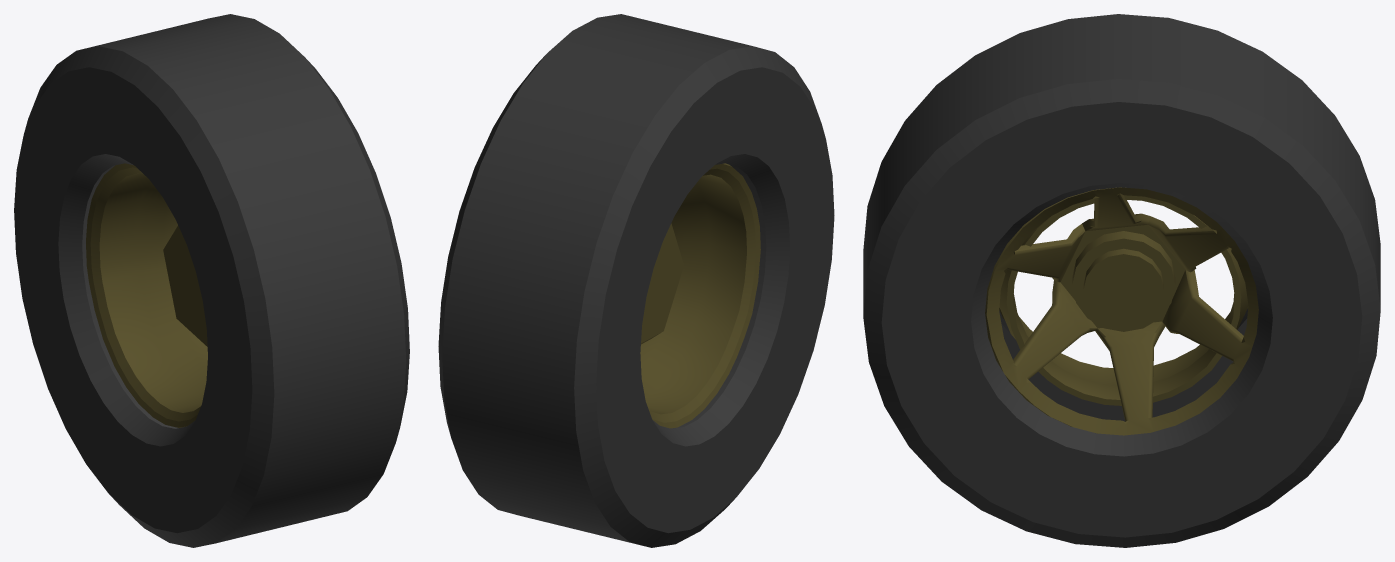
File: Wheel_test.fbx
3 views of the same model, side by side, from view 1: azimuth 30°, elevation 25°; view 2: azimuth 150°, elevation 25°; view 3: azimuth 270°, elevation 25° (orthographic).
Visible parts, largest first — view 1: FL; view 2: FL; view 3: FL.
Boxes of the visible parts, left/top/right/bottom form: FL: left=14, top=14, right=409, bottom=547; FL: left=438, top=14, right=834, bottom=547; FL: left=863, top=14, right=1380, bottom=547.
Size of the model in its own units: 28.53 by 80.5 by 80.5.
